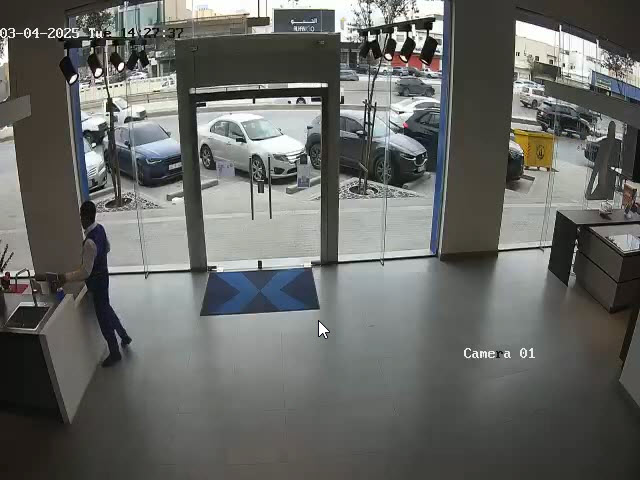employee: (57, 200, 132, 367)
